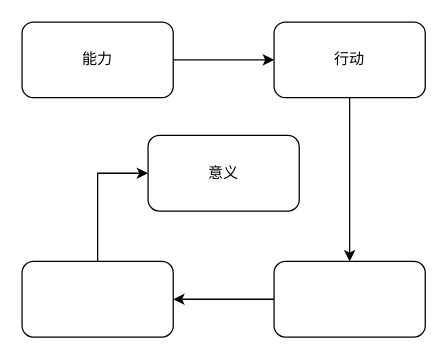
This 447x359 diagram has some shape labels left out. Here are the shapes that lost their labels. From the top down, the box of each, then its label:
(21, 260, 173, 337): 意愿
(273, 260, 425, 337): 正反馈
